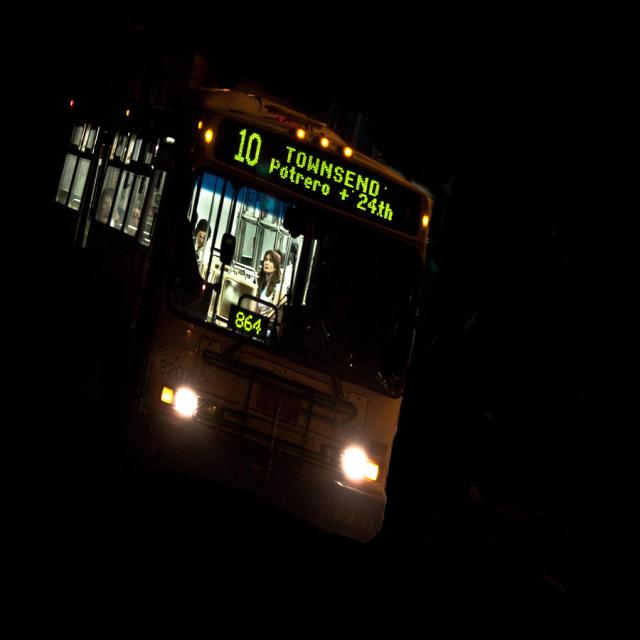Bus: (0, 42, 447, 557)
